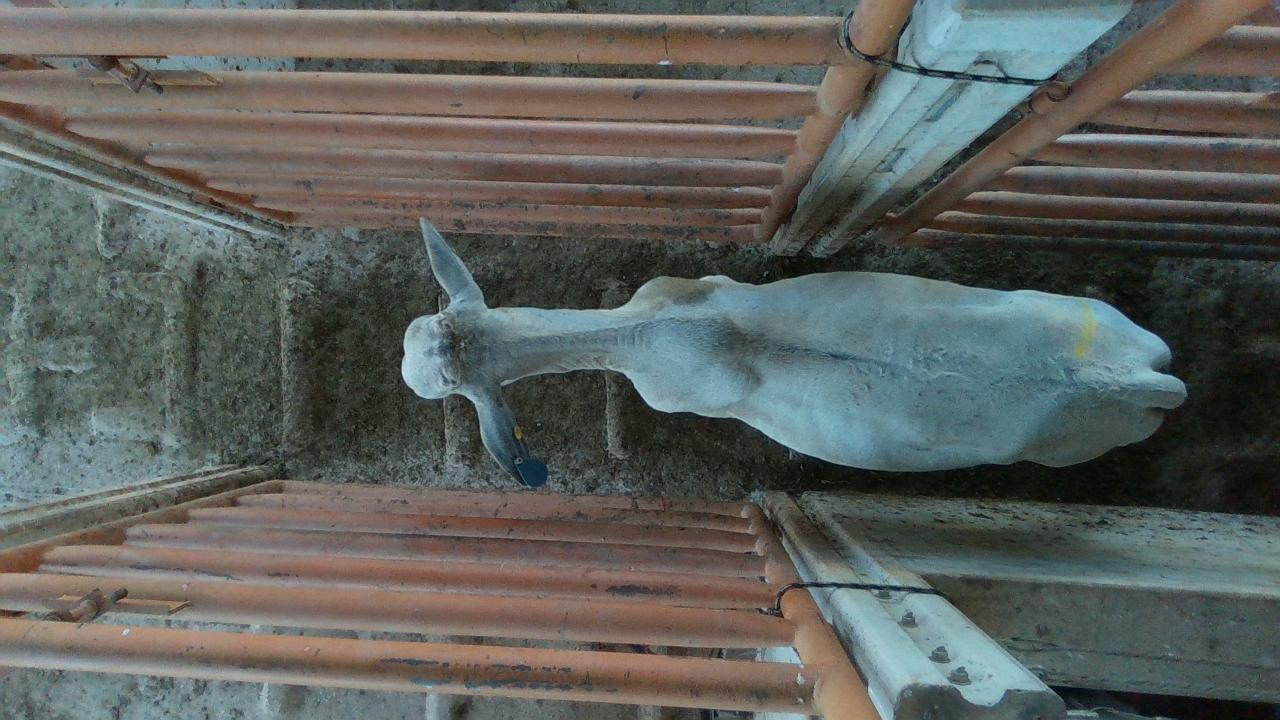cattle: (398, 214, 1188, 487)
